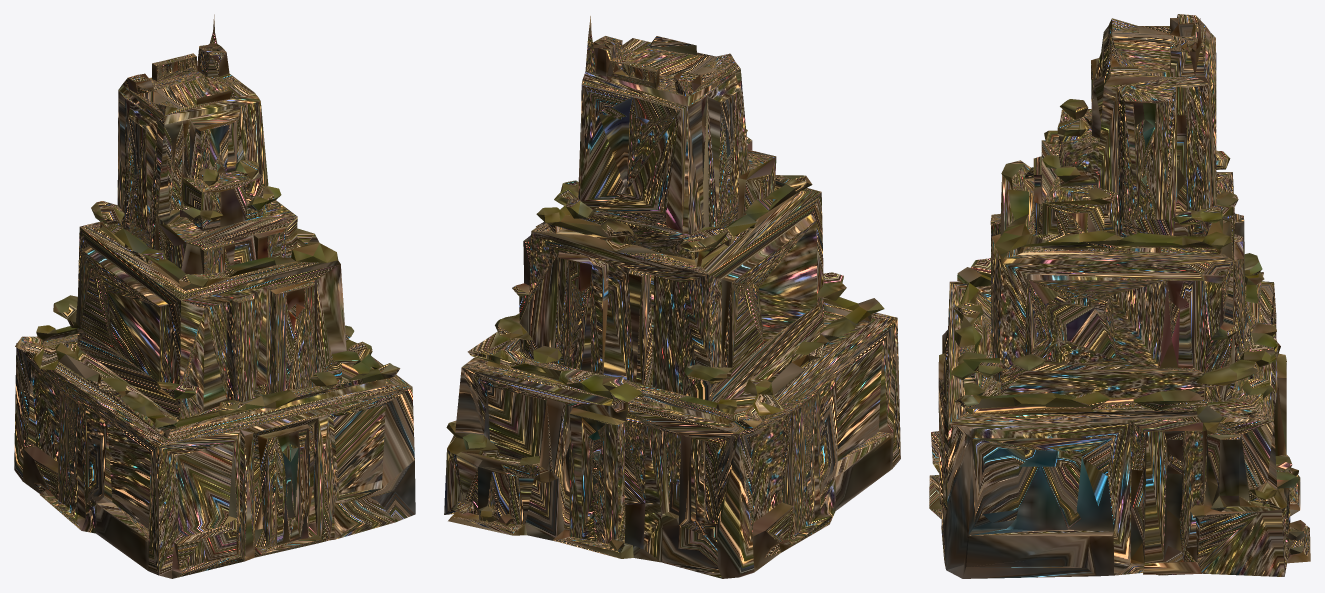
File: m03_far.glb
3 renders of one model, left to right at view 1: azimuth 30°, elevation 25°; view 2: azimuth 150°, elevation 25°; view 3: azimuth 270°, elevation 25°, orthographic. The views are drawn at different scales.
Visible parts, largest first — view 1: m03_far; view 2: m03_far; view 3: m03_far.
Boxes of the visible parts, bbox=[...] form: m03_far: bbox=[14, 14, 415, 578]; m03_far: bbox=[444, 16, 900, 578]; m03_far: bbox=[929, 14, 1310, 578].
Bounding box in the file's own units: 98.16 × 150 × 102.
1 material, 1 textured.
